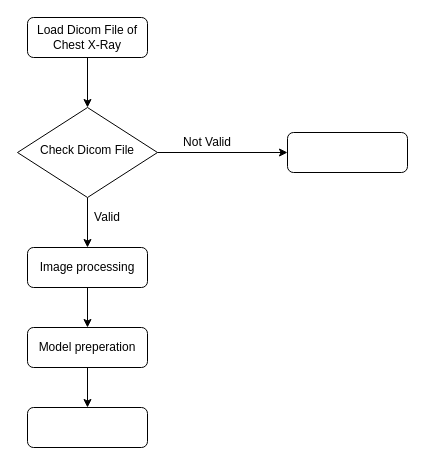
The diagram is 425 pixels wide and 465 high, and some of its shapes have lost their labels. The centre of each missing label's shape, as x and y in pixels:
Report diagnosis: [87,427]
Reports an error: [347,152]
